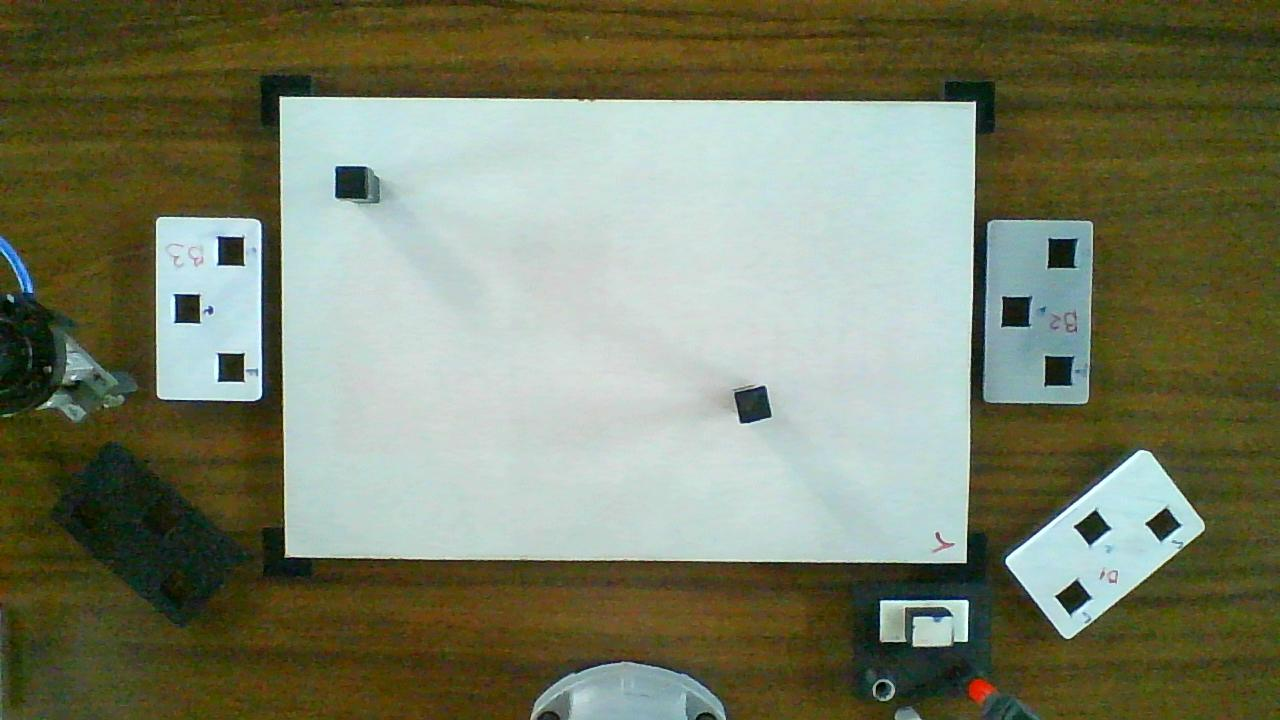peca_preta: (735, 387, 771, 423), (335, 168, 366, 199)
